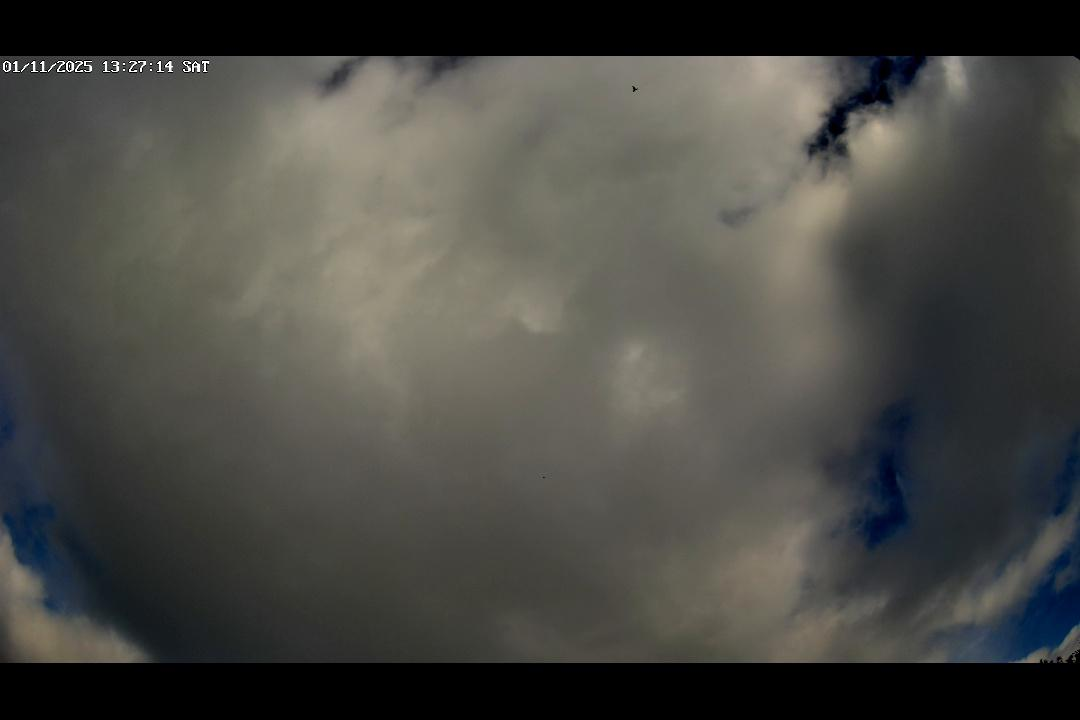WildLife: (617, 83, 648, 96), (538, 474, 551, 482)
